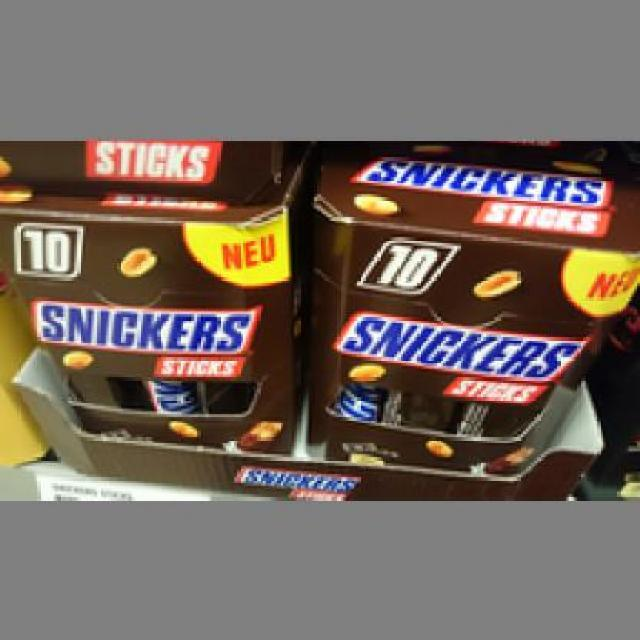Chocolate: (314, 148, 632, 466), (0, 178, 292, 452)
